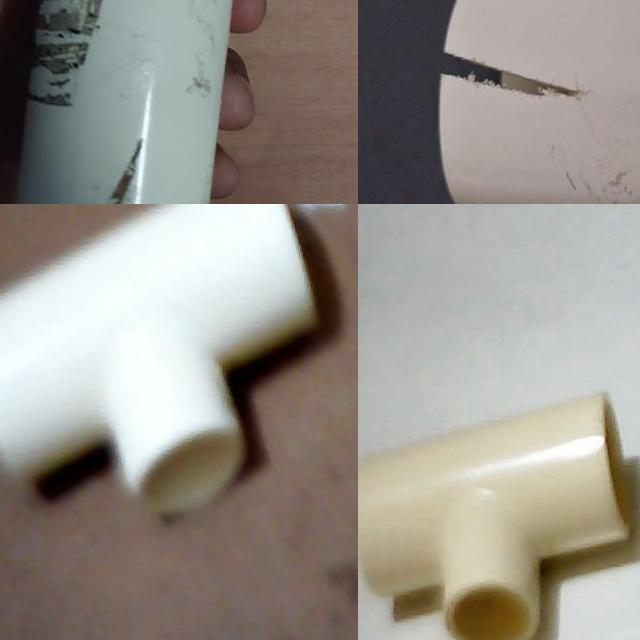Defective: (449, 58, 601, 116), (85, 112, 145, 204), (573, 147, 640, 204), (471, 0, 528, 18)
T Joint: (0, 204, 319, 516), (358, 393, 632, 640)
